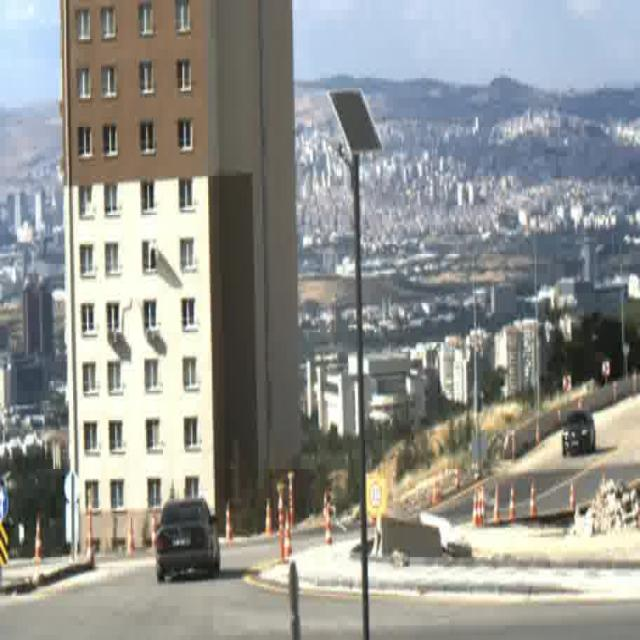Car: (157, 496, 220, 584), (562, 410, 596, 457)
